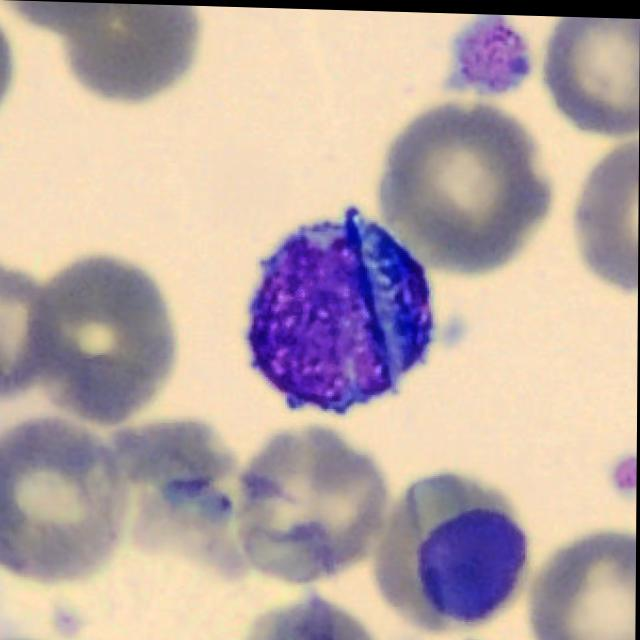Linfocito: (247, 202, 435, 411)
